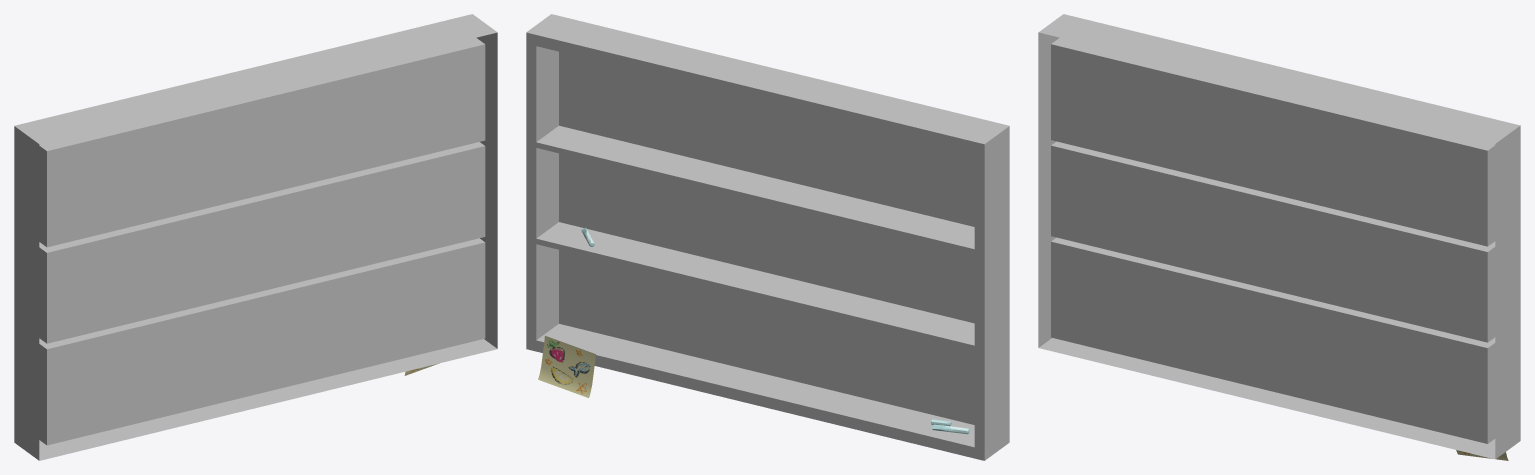
Rendered from chalkboard shelf.fbx.
3 views of the same model, side by side, from view 1: azimuth 30°, elevation 25°; view 2: azimuth 150°, elevation 25°; view 3: azimuth 330°, elevation 25° (orthographic).
Parts seen in each view (by area): view 1: chalkboard_backing, chalkboard_shelf; view 2: chalkboard_backing, chalkboard_shelf, sticky; view 3: chalkboard_backing, chalkboard_shelf.
Boxes of the visible parts, <box> form: chalkboard_backing: <box>47,44,485,445</box>; chalkboard_shelf: <box>14,14,497,460</box>; chalkboard_backing: <box>559,51,974,424</box>; chalkboard_shelf: <box>526,14,1009,460</box>; sticky: <box>538,335,595,397</box>; chalkboard_backing: <box>1051,44,1487,443</box>; chalkboard_shelf: <box>1038,14,1520,459</box>.
Bounding box in the file's own units: 971 × 705 × 102.
